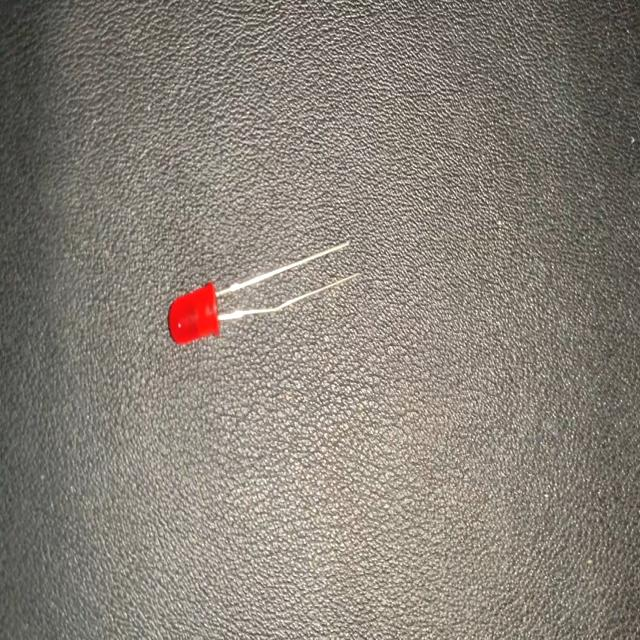LED: (168, 239, 363, 348)
